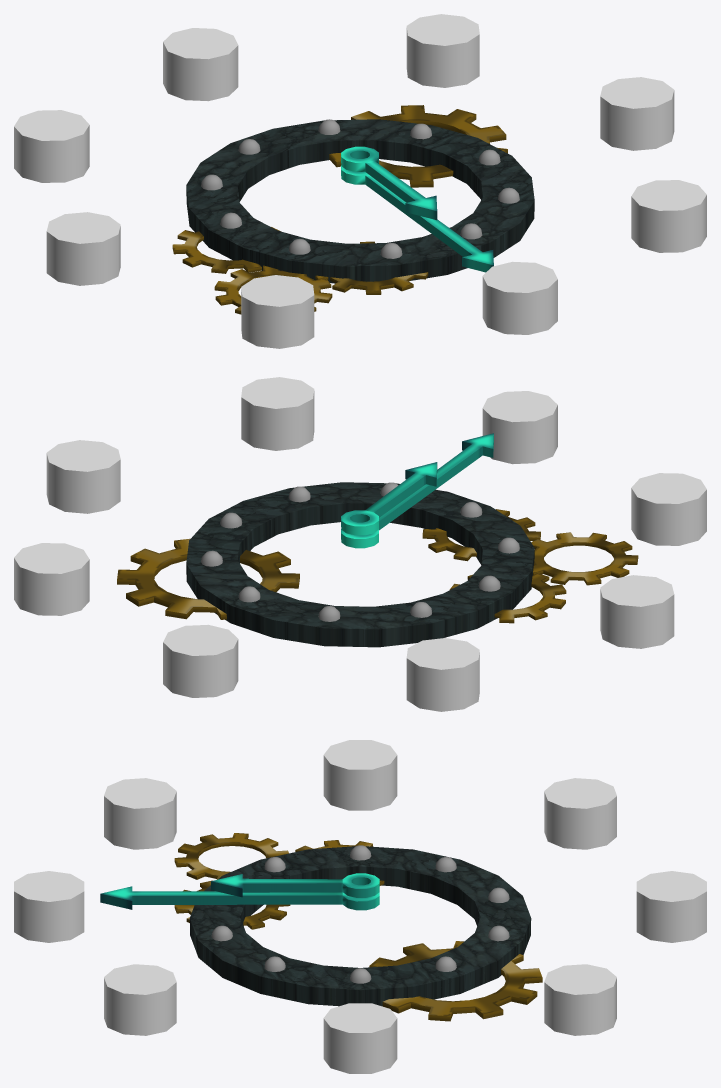
The model's file is Timed portal.FBX.
3 renders of one model, top to bottom at view 1: azimuth 30°, elevation 25°; view 2: azimuth 150°, elevation 25°; view 3: azimuth 270°, elevation 25°, orthographic. The views are drawn at different scales.
Parts seen in each view (by area): view 1: Cylinder001, Cylinder005, Cylinder009, Cylinder002, Cylinder006, Cylinder004, Cylinder008, Cylinder003, Cylinder007, Cylinder013, Object001, Plane001 (+4 smaller); view 2: Cylinder001, Cylinder003, Cylinder007, Cylinder006, Cylinder004, Cylinder008, Cylinder005, Cylinder009, Cylinder002, Cylinder013, Cylinder012, Object001 (+4 smaller); view 3: Cylinder001, Cylinder004, Cylinder008, Cylinder003, Cylinder005, Cylinder007, Cylinder009, Cylinder002, Cylinder006, Cylinder013, Plane001, Object002 (+3 smaller).
Part boxes in pixels (x1,y1,x2,y2): Cylinder001: (186, 119, 534, 283); Cylinder005: (14, 110, 89, 182); Cylinder009: (631, 180, 706, 252); Cylinder002: (482, 261, 557, 334); Cylinder006: (163, 28, 238, 101); Cylinder004: (46, 212, 120, 285); Cylinder008: (600, 77, 674, 150); Cylinder003: (241, 275, 314, 348); Cylinder007: (406, 14, 479, 87); Cylinder013: (329, 105, 507, 187); Object001: (201, 119, 519, 258); Plane001: (341, 165, 493, 272); Cylinder001: (186, 482, 534, 647); Cylinder003: (631, 473, 706, 545); Cylinder007: (14, 543, 89, 615); Cylinder006: (163, 624, 238, 697); Cylinder004: (600, 575, 674, 648); Cylinder008: (46, 440, 120, 513); Cylinder005: (406, 638, 479, 711); Cylinder009: (241, 377, 314, 450); Cylinder002: (482, 391, 557, 464); Cylinder013: (117, 538, 299, 619); Cylinder012: (531, 532, 638, 585); Object001: (201, 482, 519, 621); Cylinder001: (189, 846, 531, 1006); Cylinder004: (323, 740, 397, 810); Cylinder008: (323, 1003, 397, 1073); Cylinder003: (104, 778, 176, 849); Cylinder005: (544, 778, 616, 849); Cylinder007: (544, 964, 616, 1035); Cylinder009: (104, 964, 176, 1035); Cylinder002: (14, 871, 84, 942); Cylinder006: (636, 871, 706, 942); Cylinder013: (369, 941, 542, 1021); Plane001: (100, 886, 379, 910); Object002: (211, 873, 379, 897).
Bounding box in the file's own units: 230 × 19.94 × 230.
